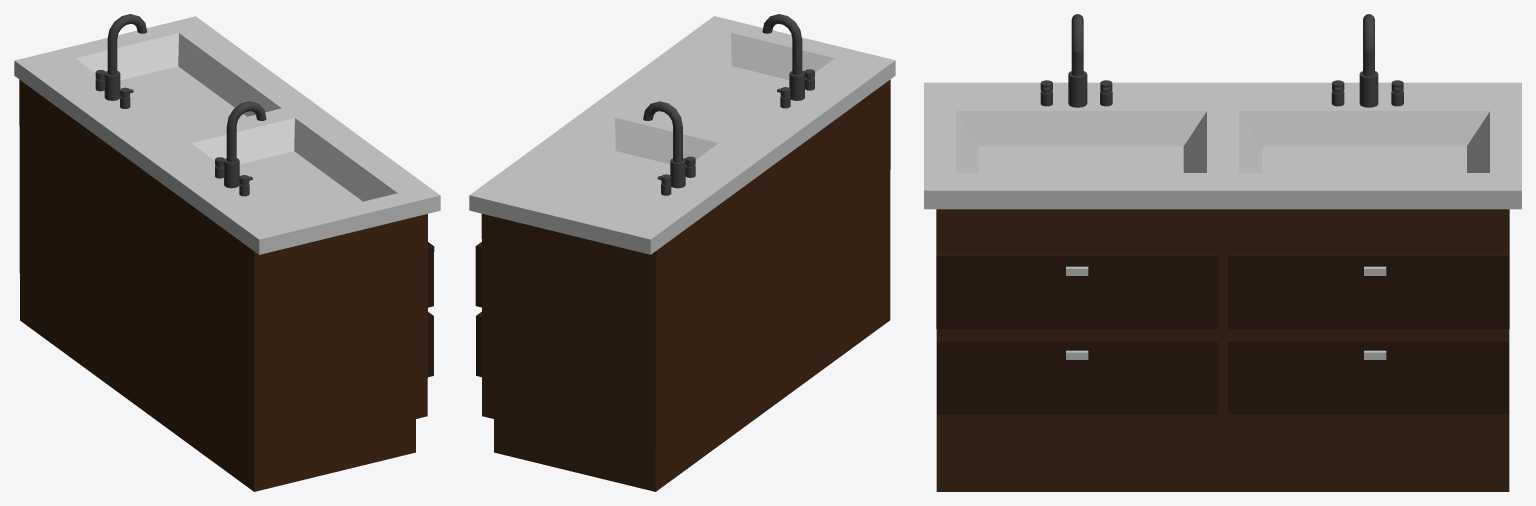
Rendered from EvierSDB.fbx.
The picture shows the model from 3 angles, left to right: view 1: azimuth 30°, elevation 25°; view 2: azimuth 150°, elevation 25°; view 3: azimuth 270°, elevation 25°; orthographic projection. The views are drawn at different scales.
Visible parts, largest first — view 1: EvierSDB; view 2: EvierSDB; view 3: EvierSDB.
Boxes of the visible parts, x1,y1,x2,y2 form: EvierSDB: (14,14,440,491); EvierSDB: (469,14,895,491); EvierSDB: (924,14,1521,491).
Bounding box in the file's own units: 67.63 × 118 × 157.
